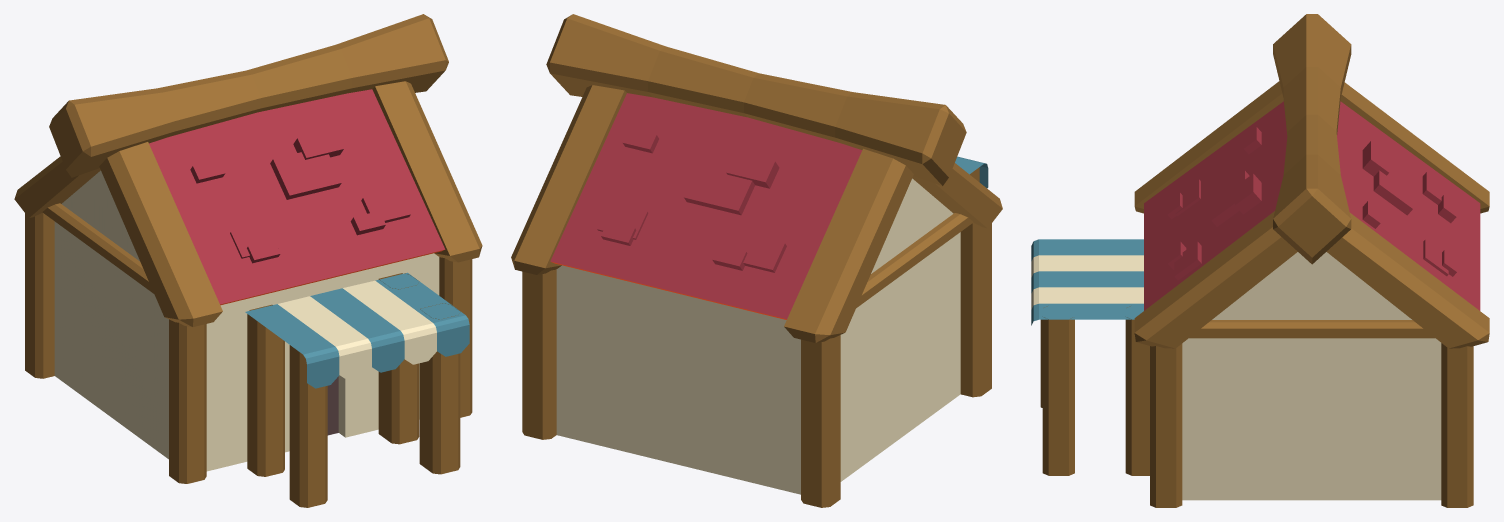
File: house.fbx
The picture shows the model from 3 angles, left to right: view 1: azimuth 30°, elevation 25°; view 2: azimuth 150°, elevation 25°; view 3: azimuth 270°, elevation 25°; orthographic projection. The views are drawn at different scales.
Visible parts, largest first — view 1: house; view 2: house; view 3: house.
Boxes of the visible parts, left/top/right/bottom form: house: left=14, top=14, right=482, bottom=507; house: left=511, top=14, right=1002, bottom=507; house: left=1031, top=14, right=1489, bottom=507.
Size of the model in its own units: 147 by 127 by 158.
